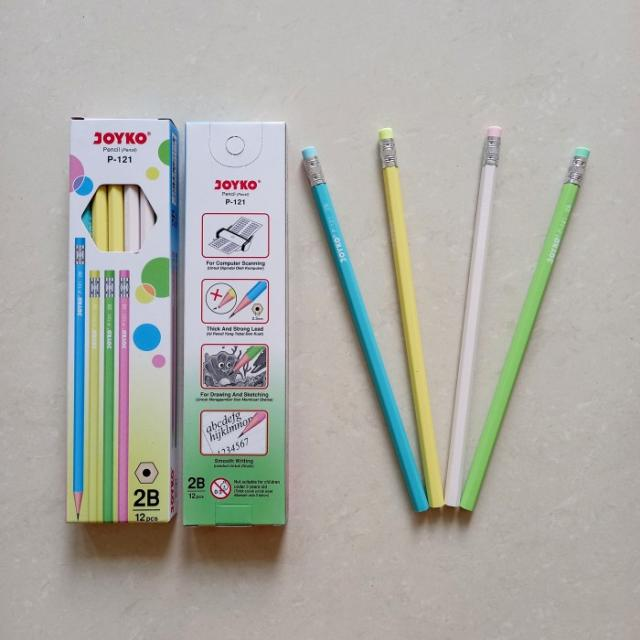pencil: (292, 134, 437, 529), (458, 137, 598, 526), (371, 118, 450, 522), (440, 115, 516, 522)
